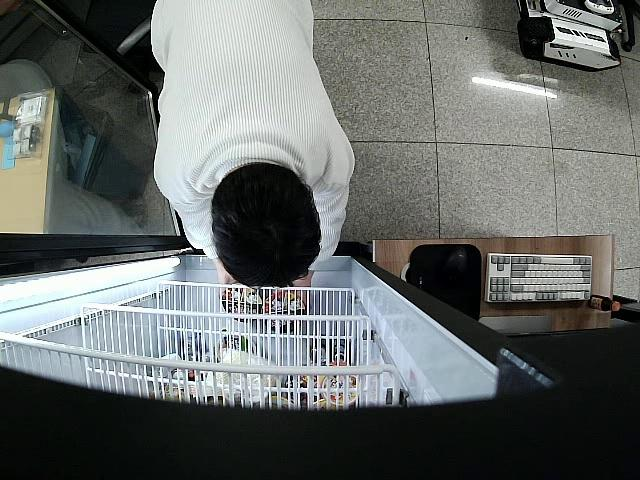00_hand: (292, 275, 311, 312)
07_buldak_L: (263, 290, 306, 336)
